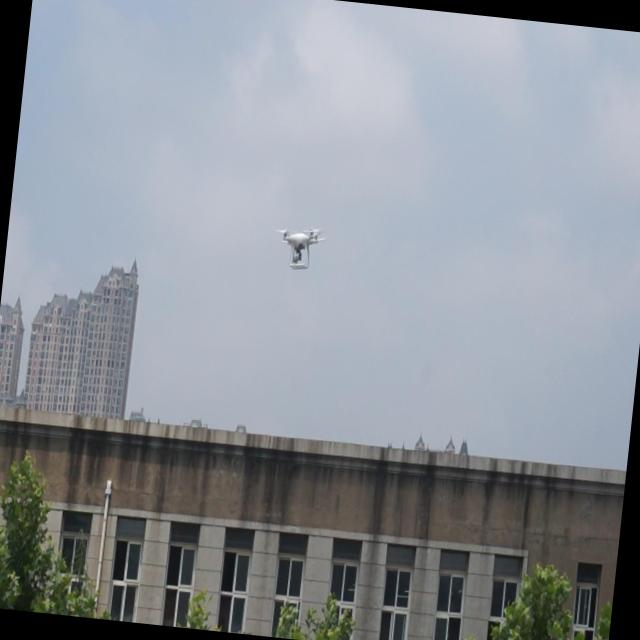drone: (270, 219, 330, 278)
